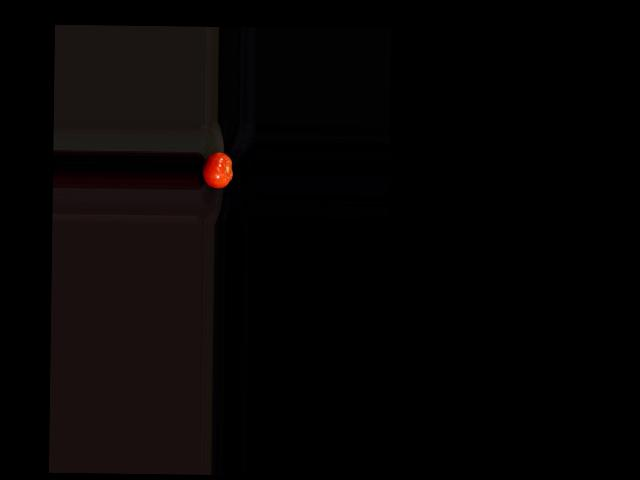tomato: (202, 152, 232, 189)
